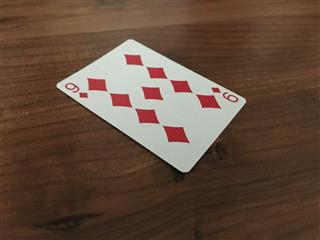NineOfDiamonds: (54, 37, 246, 172)
